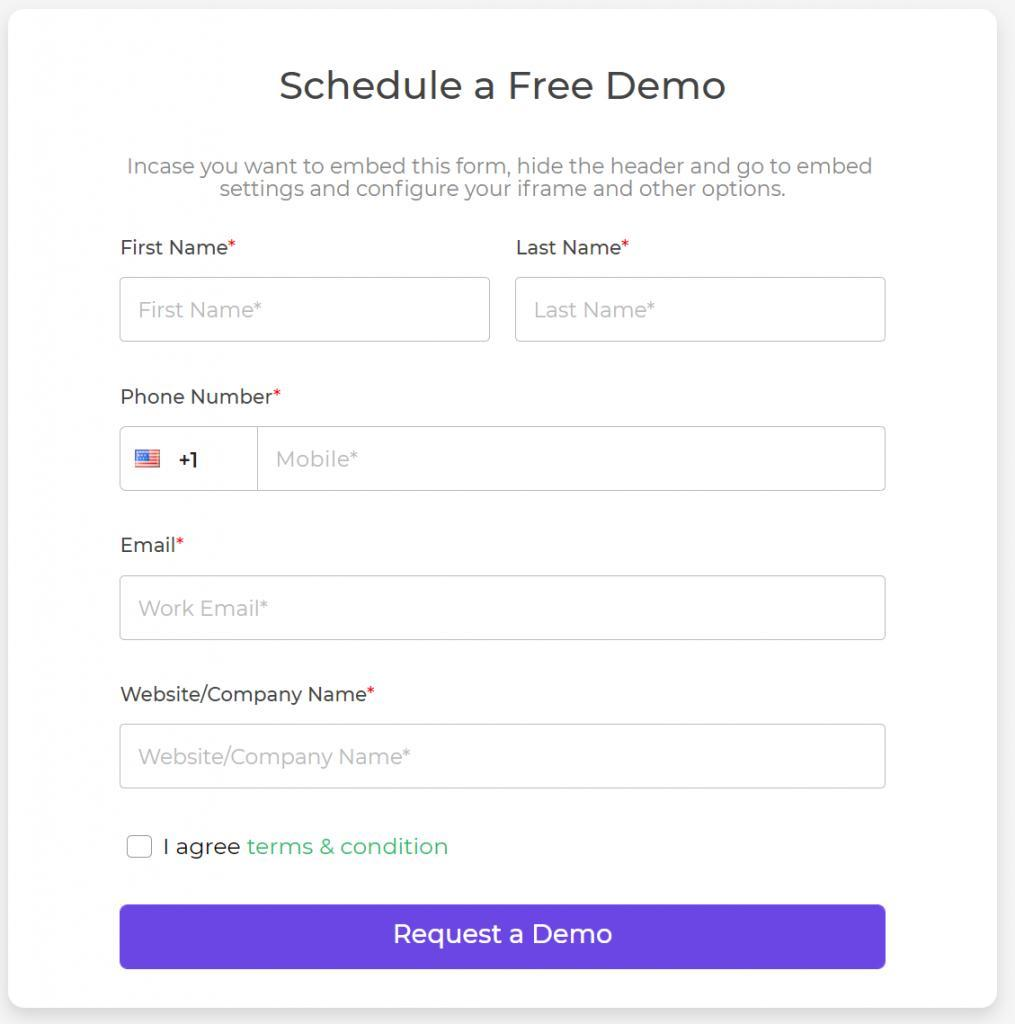button: (117, 899, 890, 976)
checkbox: (127, 834, 156, 861)
input: (119, 573, 887, 642), (120, 726, 887, 789), (259, 427, 887, 491), (515, 279, 885, 345), (121, 281, 492, 344)
label: (157, 830, 452, 870), (120, 681, 382, 714), (104, 374, 297, 417), (512, 229, 636, 261), (114, 237, 247, 264), (118, 528, 190, 568)
